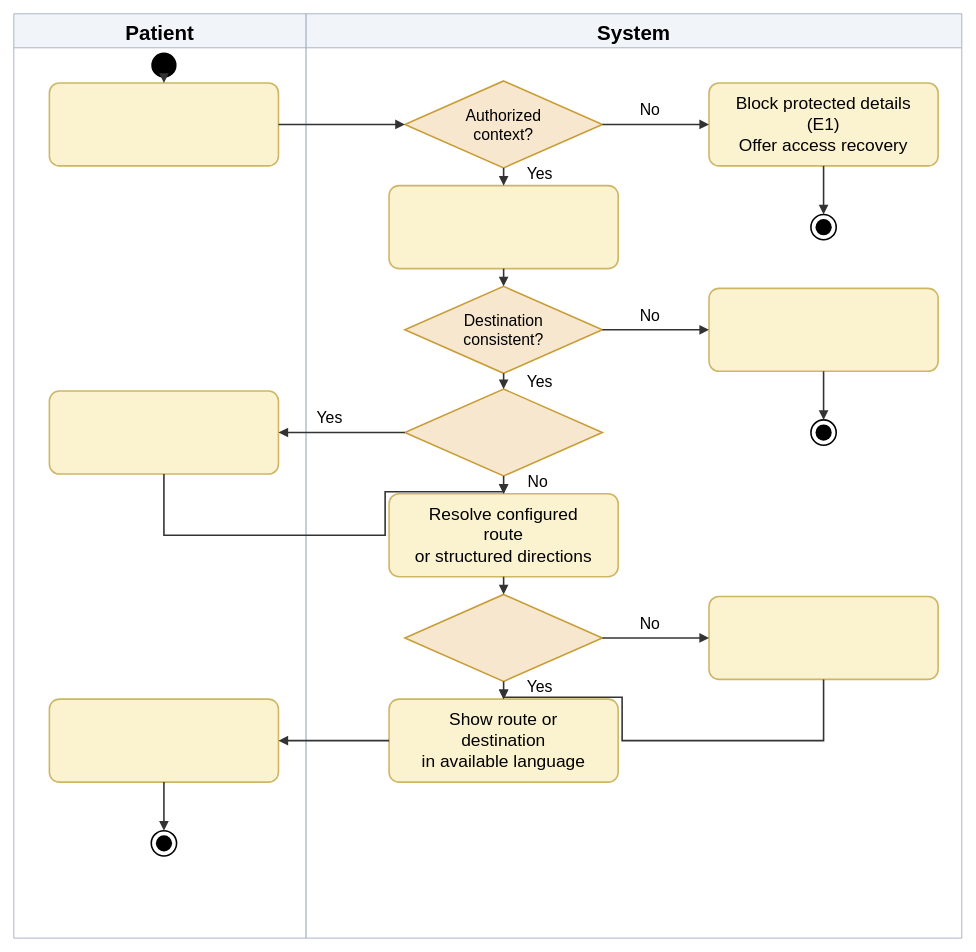
Image size: 976x952. Some labels were removed from this diagram. Here are the shapes that lost their labels. From the top down, the centre of each, then its label:
the point at 163,124: Select Navigate or open destination details
the point at 503,226: Resolve current destination and known location metadata
the point at 823,329: Show known information (A2) Offer staff assistance Do not invent a route
the point at 163,432: Confirm an available known starting point
the point at 503,432: Starting point needed?
the point at 503,637: Detailed route available?
the point at 823,637: Use textual directions (A1) Keep department/floor/room
the point at 163,740: Follow available guidance Optional UC09 assistance
